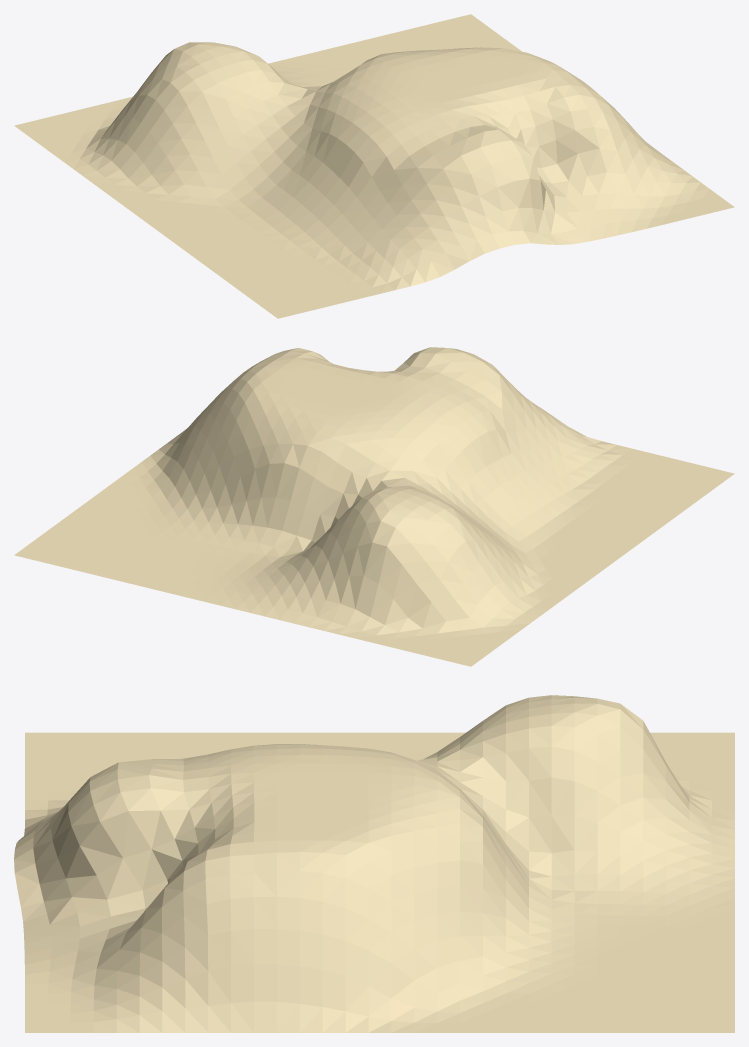
Rendered from Island_4.fbx.
3 views of the same model, one above another, from view 1: azimuth 30°, elevation 25°; view 2: azimuth 150°, elevation 25°; view 3: azimuth 270°, elevation 25° (orthographic). The views are drawn at different scales.
Parts seen in each view (by area): view 1: Island_4; view 2: Island_4; view 3: Island_4.
Boxes of the visible parts, x1,y1,x2,y2 form: Island_4: [14, 14, 734, 318]; Island_4: [14, 347, 734, 666]; Island_4: [14, 695, 734, 1032].
Bounding box in the file's own units: 4000 × 774 × 4062.
